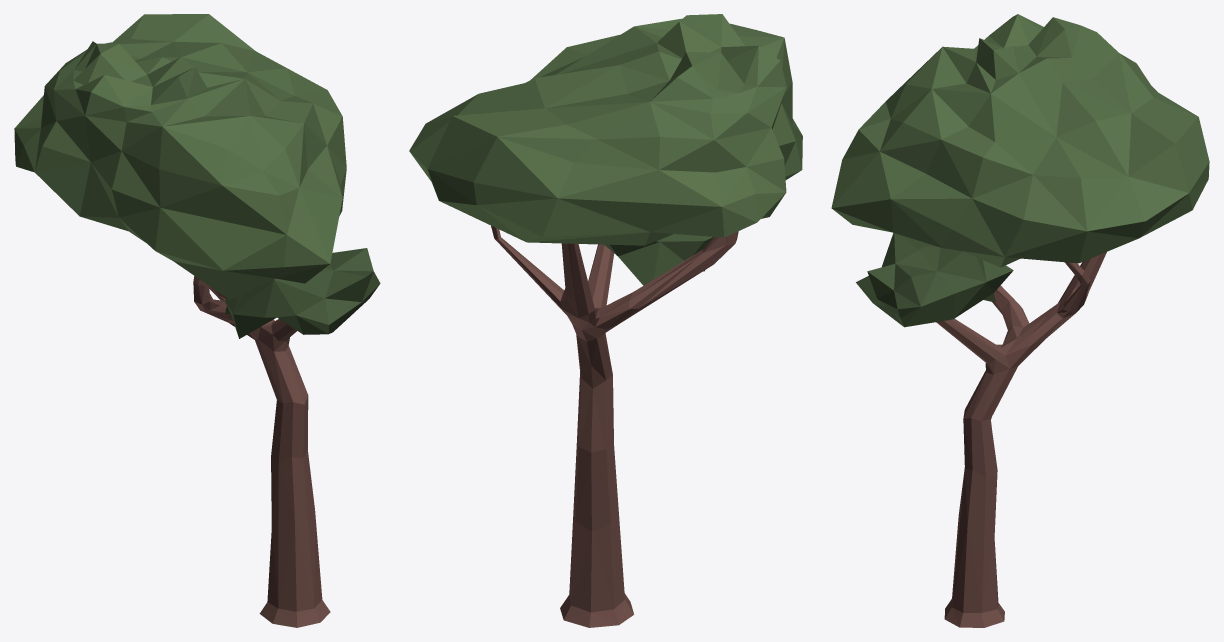
Rendered from CommonTree_4.lod1.glb.
3 renders of one model, left to right at view 1: azimuth 30°, elevation 25°; view 2: azimuth 150°, elevation 25°; view 3: azimuth 270°, elevation 25°, orthographic. The views are drawn at different scales.
Visible parts, largest first — view 1: CommonTree_4; view 2: CommonTree_4; view 3: CommonTree_4.
Part boxes in pixels (bbox=[...]): CommonTree_4: bbox=[14, 14, 380, 627]; CommonTree_4: bbox=[409, 14, 802, 627]; CommonTree_4: bbox=[831, 14, 1209, 627].
Size of the model in its own units: 1.58 by 2.78 by 1.8.
